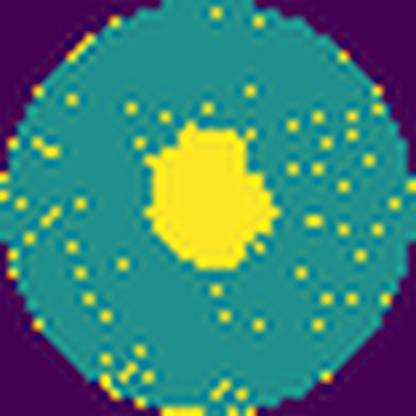Center: (142, 122, 284, 269)
